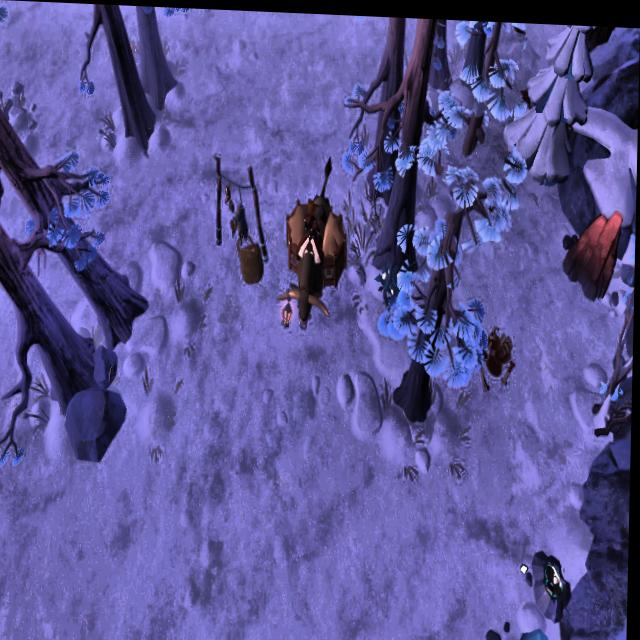fiber_t4: (375, 257, 411, 313)
rock_t4: (492, 618, 560, 640)
rock_t5: (562, 195, 629, 297)
